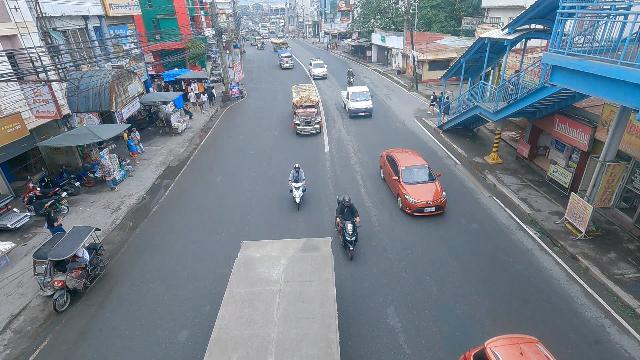car: (380, 148, 448, 215), (309, 57, 328, 78), (277, 32, 285, 39), (269, 29, 276, 34)
jeepney: (292, 83, 323, 134), (341, 85, 373, 117), (278, 48, 294, 68), (269, 38, 289, 52), (249, 36, 263, 46), (262, 32, 270, 40)
motorcycle: (336, 195, 361, 260), (288, 163, 306, 210), (346, 71, 358, 87)
